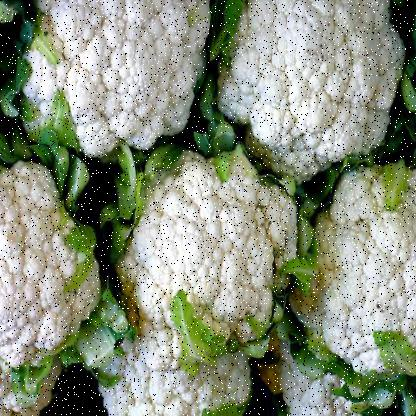cauliflower: (130, 158, 300, 354), (221, 1, 403, 169), (15, 10, 247, 134), (1, 151, 97, 389), (309, 164, 416, 368), (71, 346, 284, 415)
